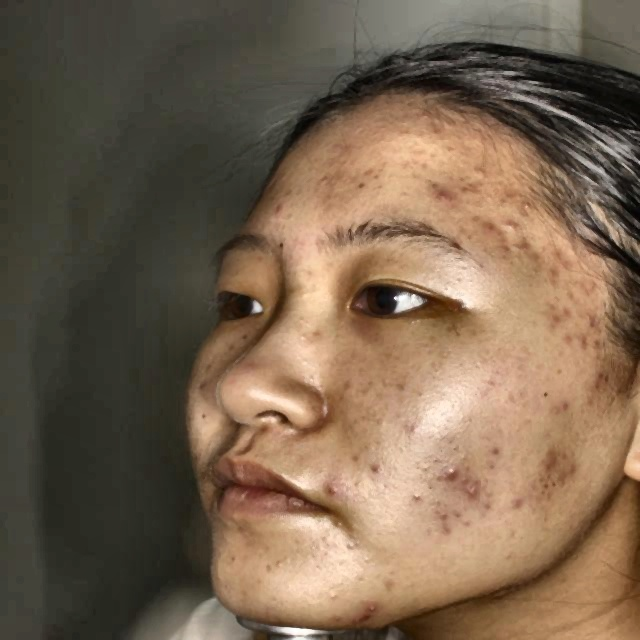papule: (574, 357, 613, 400), (498, 204, 536, 244), (420, 445, 456, 479), (525, 448, 568, 476), (524, 224, 558, 256), (584, 304, 607, 348), (541, 323, 571, 354), (525, 270, 554, 300), (423, 187, 448, 218), (502, 489, 533, 514), (444, 486, 479, 506), (562, 469, 585, 498), (549, 393, 575, 418), (484, 205, 506, 232), (555, 245, 577, 272), (322, 479, 348, 498), (547, 293, 563, 323), (350, 610, 374, 630), (329, 608, 348, 629), (362, 598, 386, 614), (409, 487, 427, 507)
